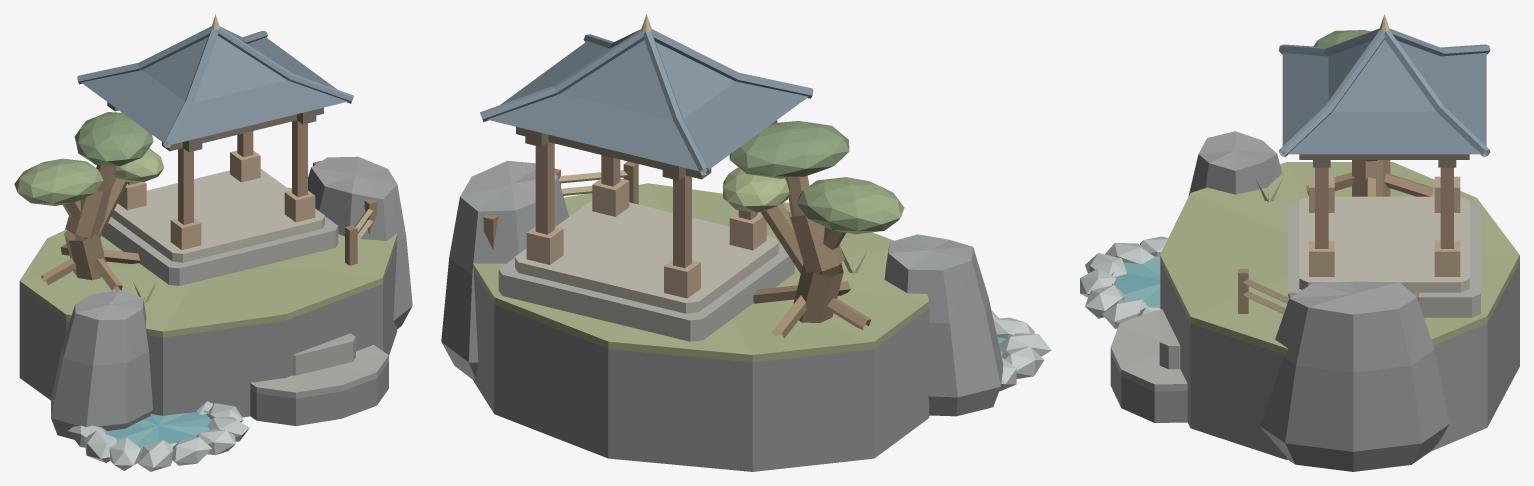
3 renders of one model, left to right at view 1: azimuth 30°, elevation 25°; view 2: azimuth 150°, elevation 25°; view 3: azimuth 270°, elevation 25°, orthographic. The views are drawn at different scales.
Visible parts, largest first — view 1: S20; view 2: S20; view 3: S20.
Part boxes in pixels (x1,y1,x2,y2): S20: (14, 14, 412, 471); S20: (441, 14, 1051, 471); S20: (1080, 14, 1519, 471).
Bounding box in the file's own units: 4.73 × 3.64 × 3.92.
